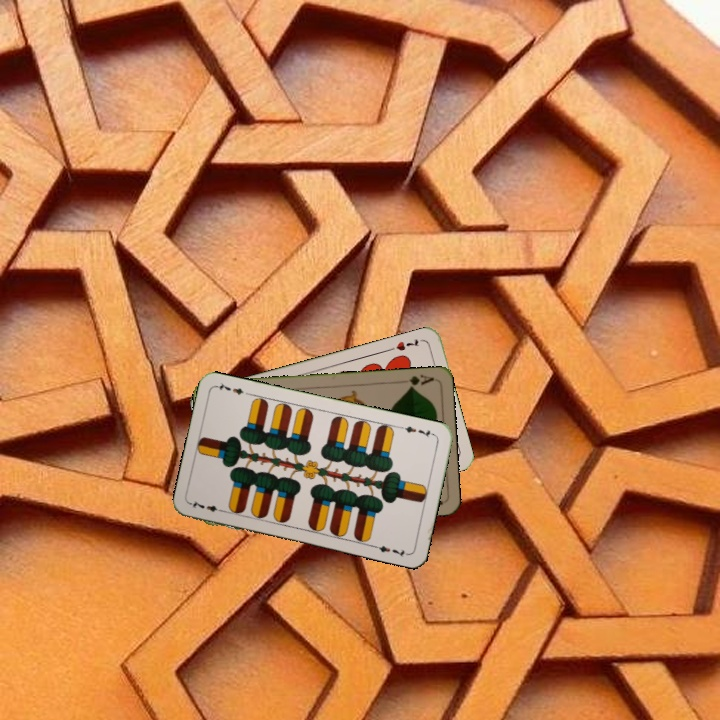E7: (187, 496, 227, 515), (397, 422, 437, 440)
GA: (405, 371, 436, 391)
H7: (392, 335, 422, 353)
